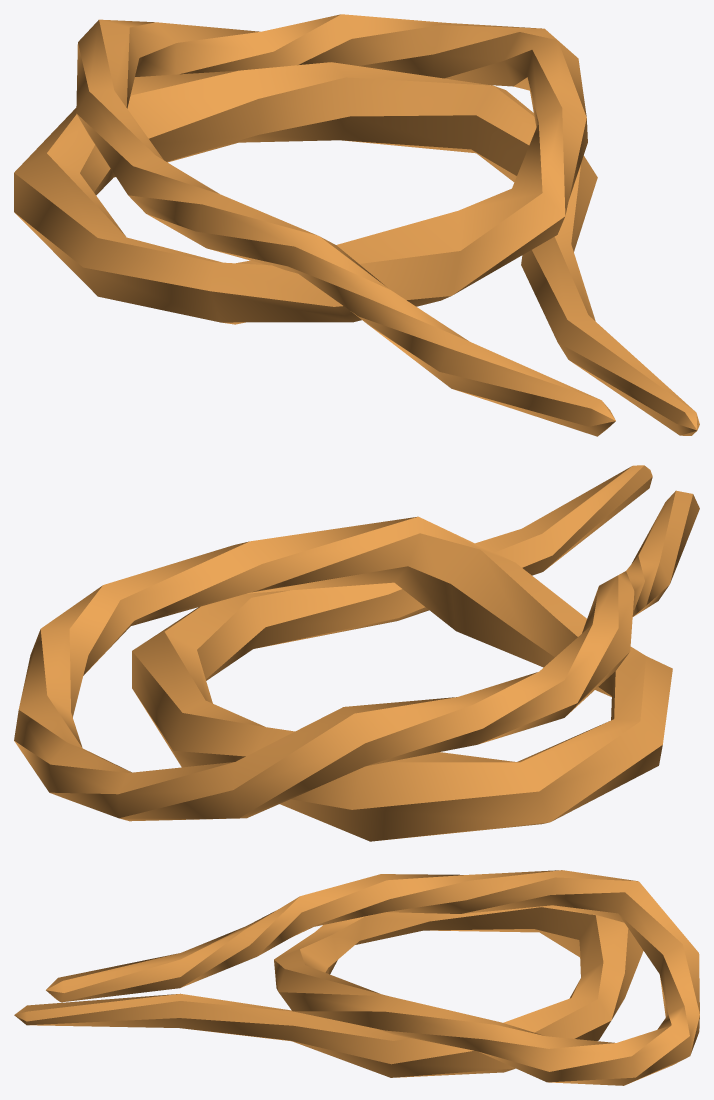
Rendered from SM_Rope_01.fbx.
3 renders of one model, top to bottom at view 1: azimuth 30°, elevation 25°; view 2: azimuth 150°, elevation 25°; view 3: azimuth 270°, elevation 25°, orthographic. The views are drawn at different scales.
Visible parts, largest first — view 1: Rope; view 2: Rope; view 3: Rope.
Part boxes in pixels (x1,y1,x2,y2): Rope: (14,14,699,436); Rope: (14,465,699,841); Rope: (14,870,699,1085).
Size of the model in its own units: 26 by 6 by 40.
